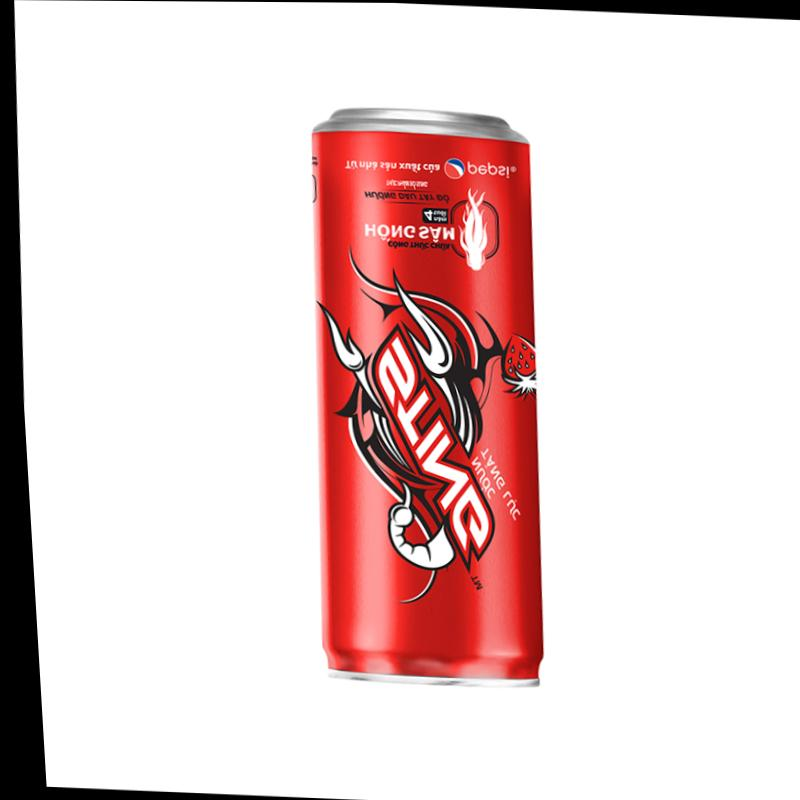metal: (312, 109, 541, 678)
